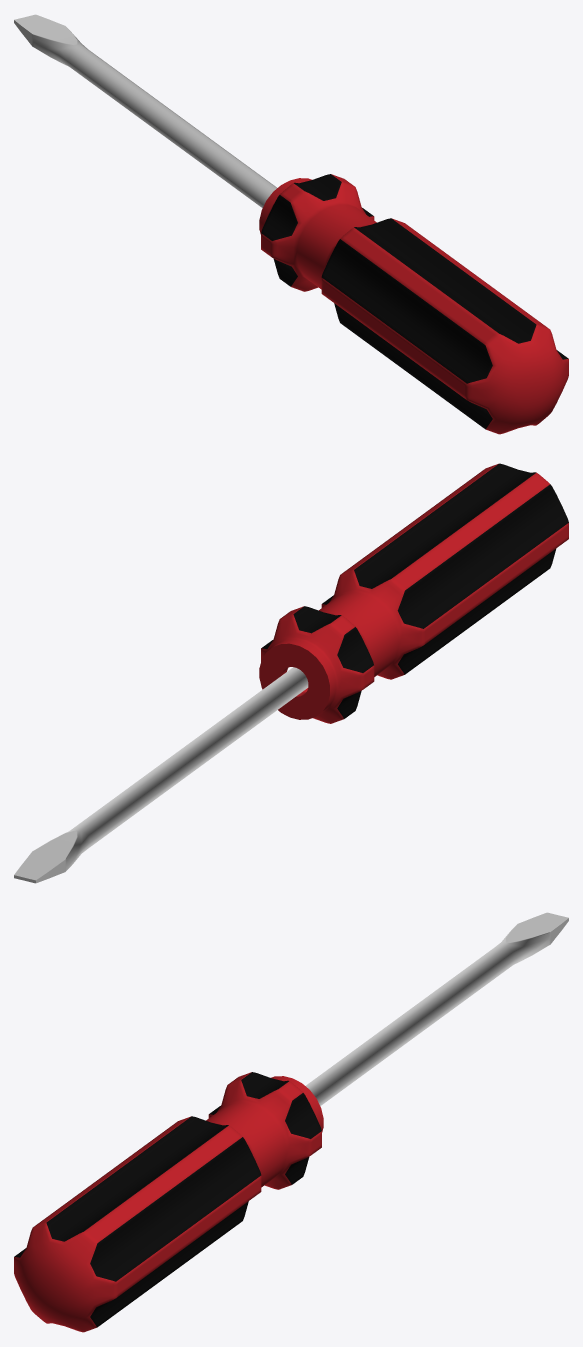
The model's file is qizi_wanzheng.FBX.
3 views of the same model, one above another, from view 1: azimuth 30°, elevation 25°; view 2: azimuth 150°, elevation 25°; view 3: azimuth 330°, elevation 25° (orthographic).
Parts seen in each view (by area): view 1: qizi_wanzheng; view 2: qizi_wanzheng; view 3: qizi_wanzheng.
Boxes of the visible parts, bbox=[...] form: qizi_wanzheng: bbox=[14, 14, 568, 434]; qizi_wanzheng: bbox=[14, 463, 568, 883]; qizi_wanzheng: bbox=[14, 912, 568, 1332].
Size of the model in its own units: 3.94 by 3.71 by 34.
